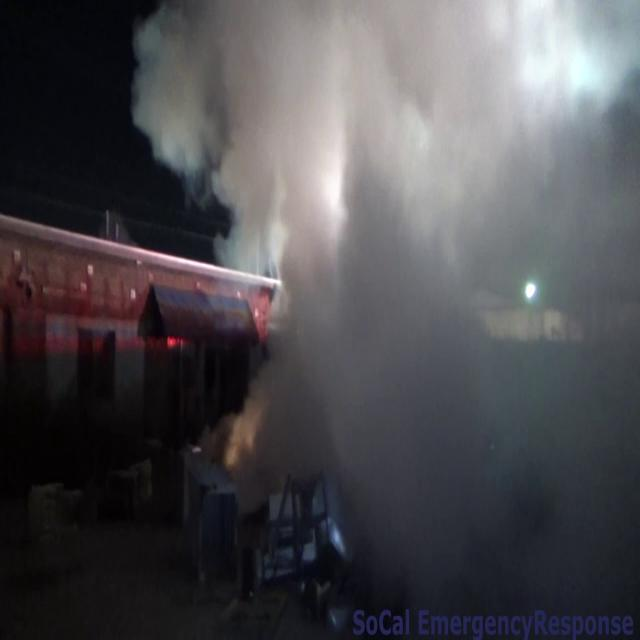Smoke: (226, 0, 640, 528)
